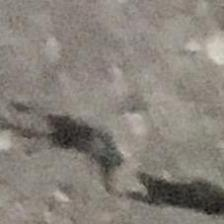Crack: (0, 24, 222, 224)
